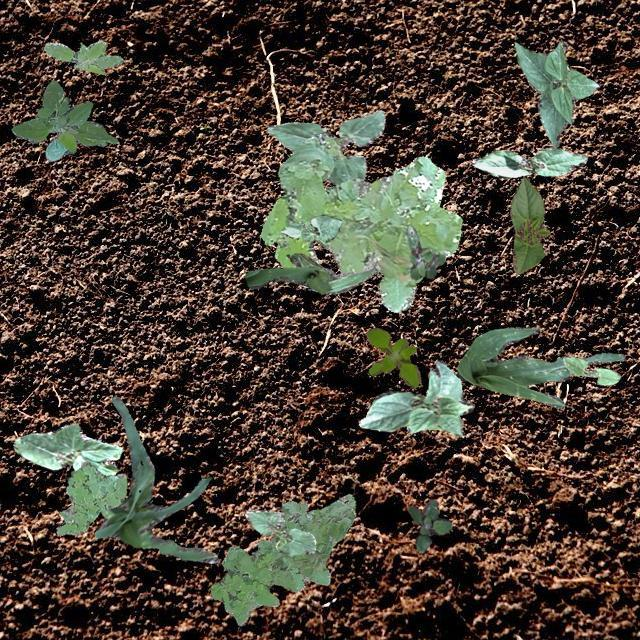crop: (94, 397, 216, 562), (456, 326, 624, 408), (514, 40, 598, 146), (266, 109, 384, 184), (358, 359, 472, 436), (10, 80, 116, 160), (12, 422, 120, 476), (244, 252, 378, 294), (508, 175, 550, 272), (471, 146, 586, 177), (243, 508, 314, 556), (562, 354, 620, 384), (280, 214, 340, 242)
weed: (259, 132, 462, 312), (210, 492, 354, 624), (56, 461, 126, 534), (366, 327, 420, 388), (42, 40, 122, 74), (408, 498, 450, 552), (404, 224, 444, 278)
